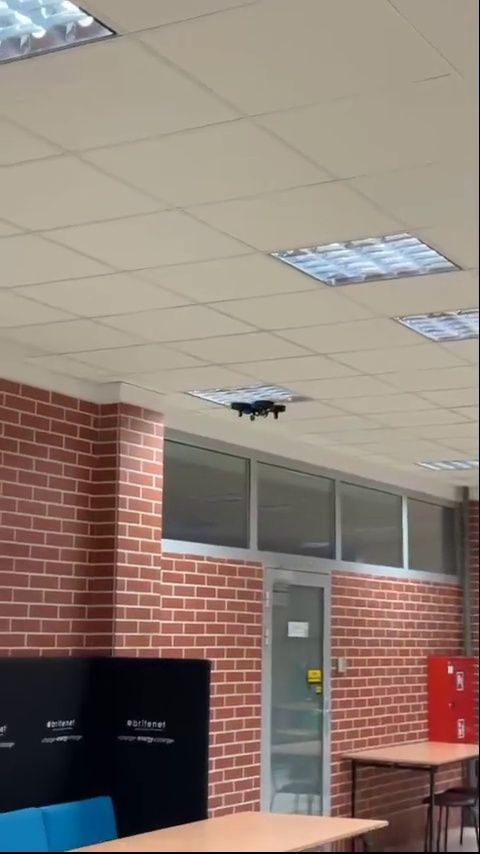drone: (230, 397, 286, 421)
